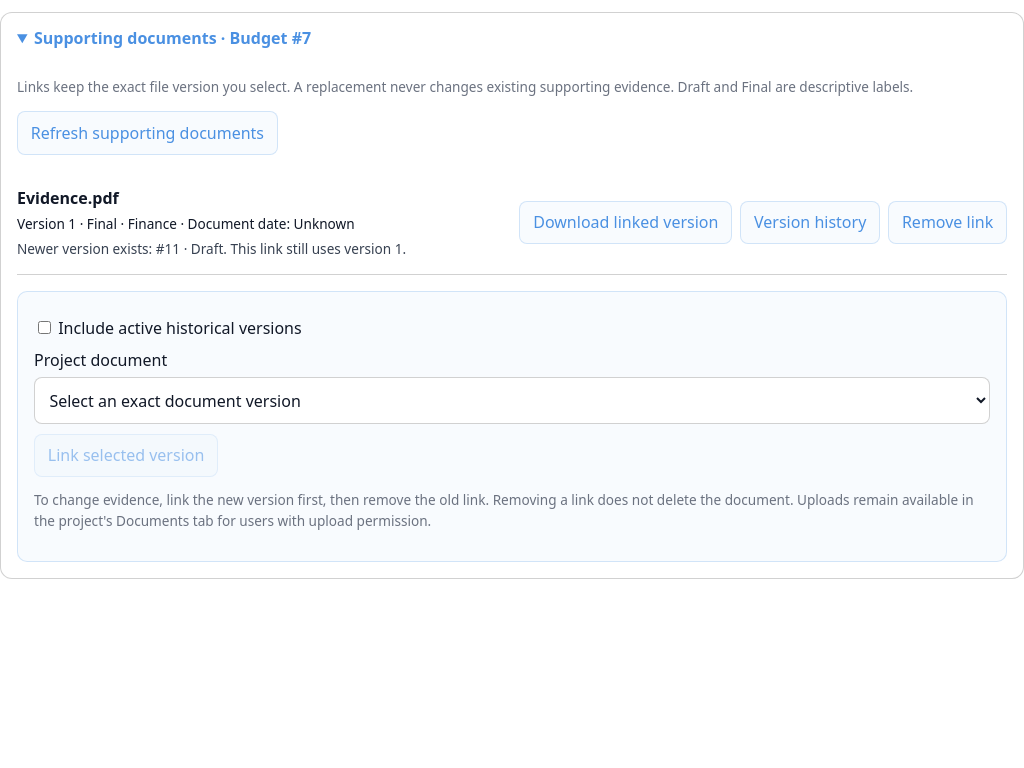
failed removal retains evidence and never deletes the document or retries
Expected: the text "Evidence.pdf" is shown, 17,186 -> 119,208
Click the button "Remove link" at (948, 222), box 888,200 -> 1007,244
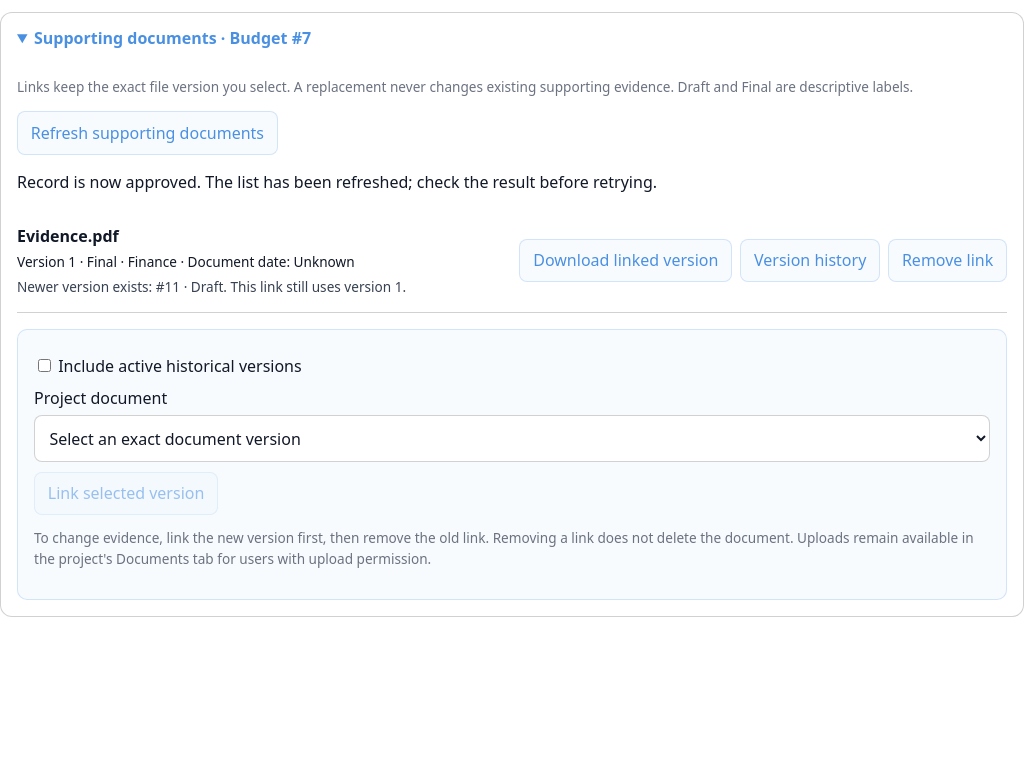
Expected: the text "Evidence.pdf" is shown, 17,224 -> 119,246
Now the message shows "Record is now approved.", box 17,170 -> 657,192
